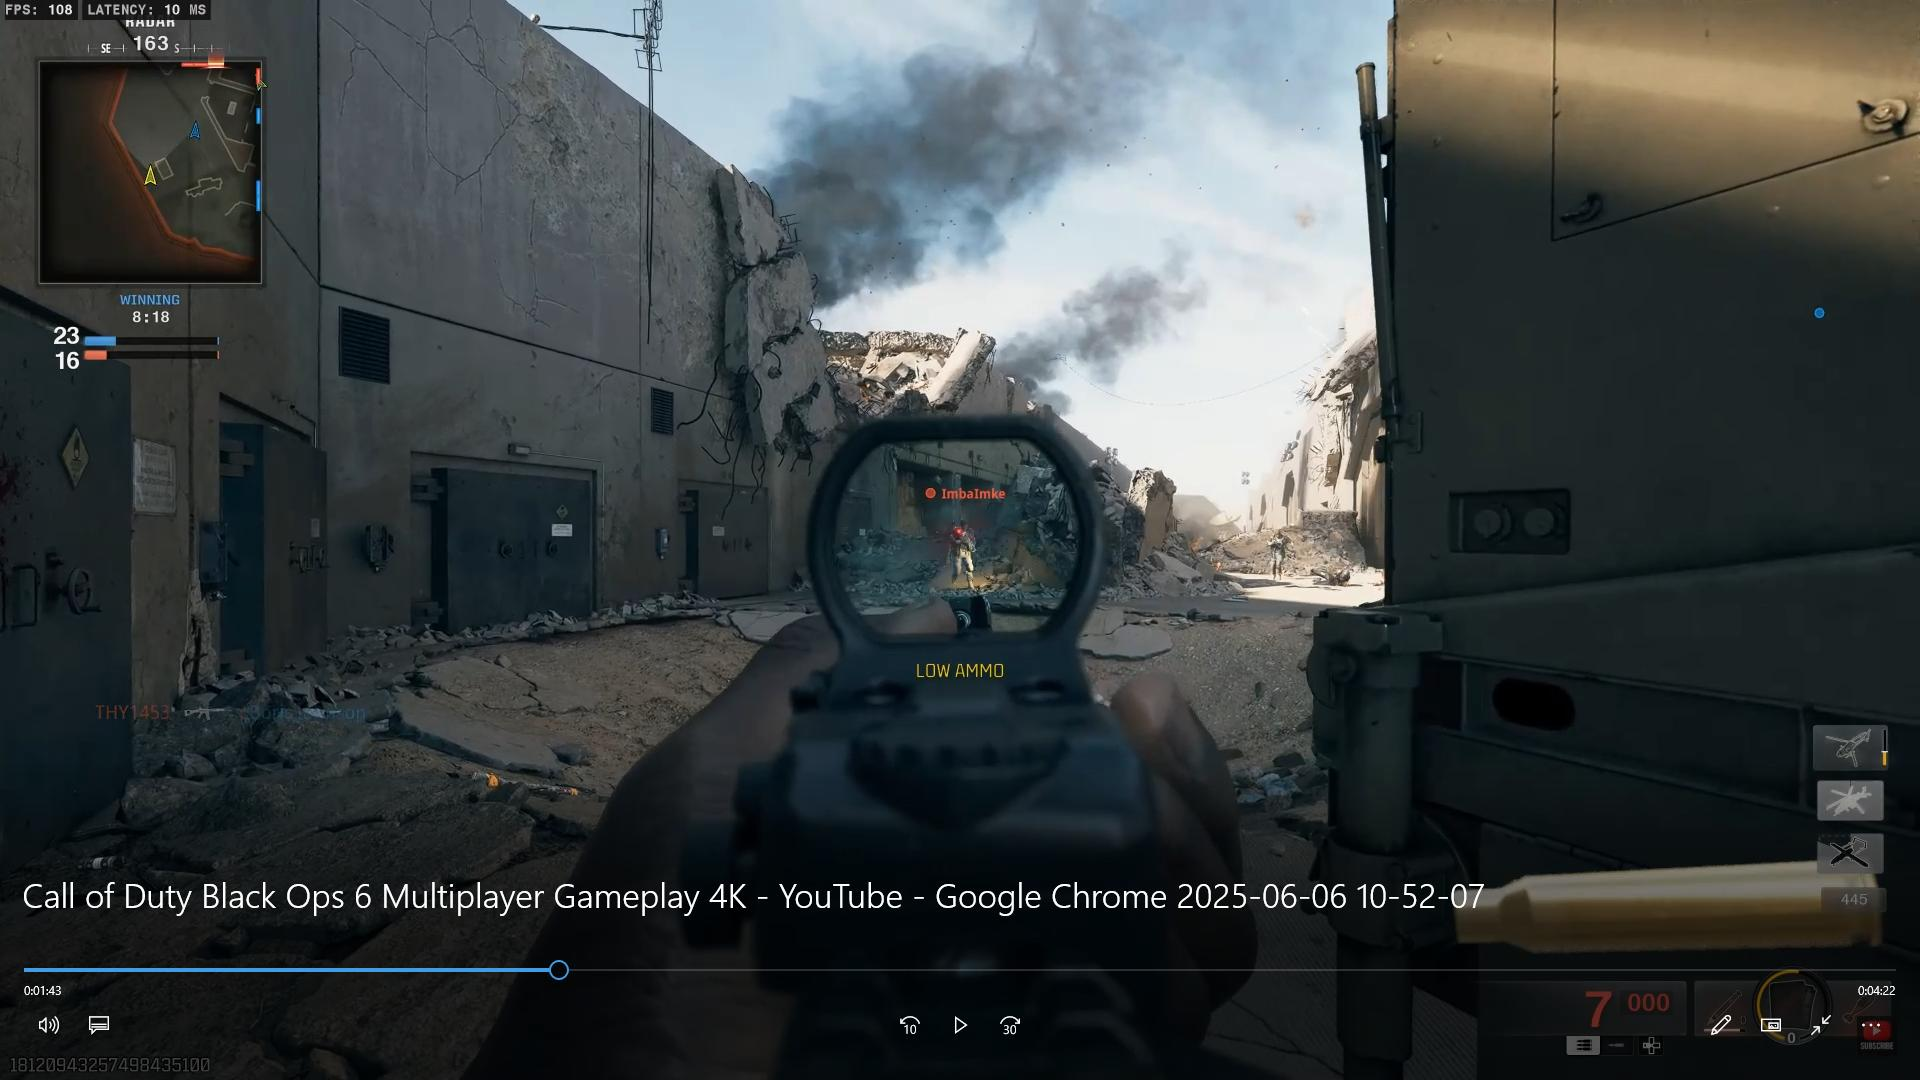Enemy: (927, 475, 1006, 589)
